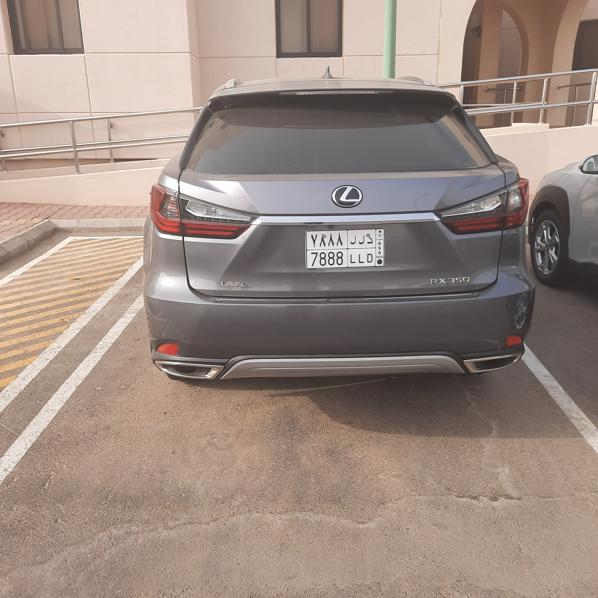numberplate: (306, 231, 384, 267)
